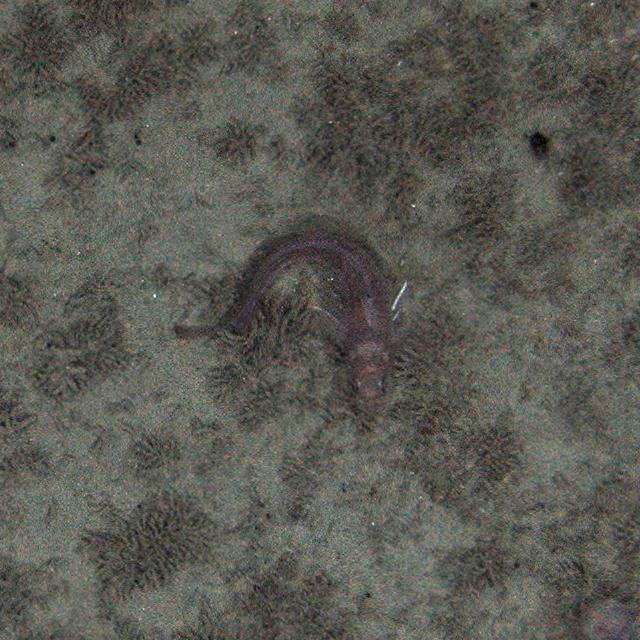roundfish: (202, 224, 412, 416)
